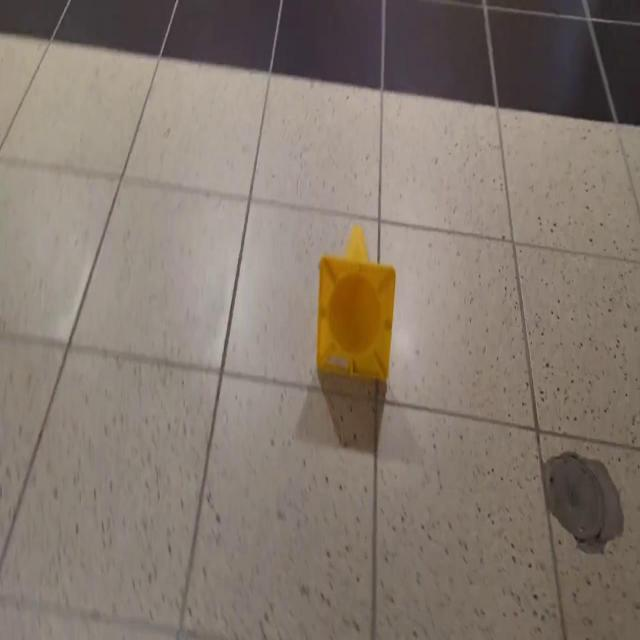frc_cone: (317, 223, 397, 388)
